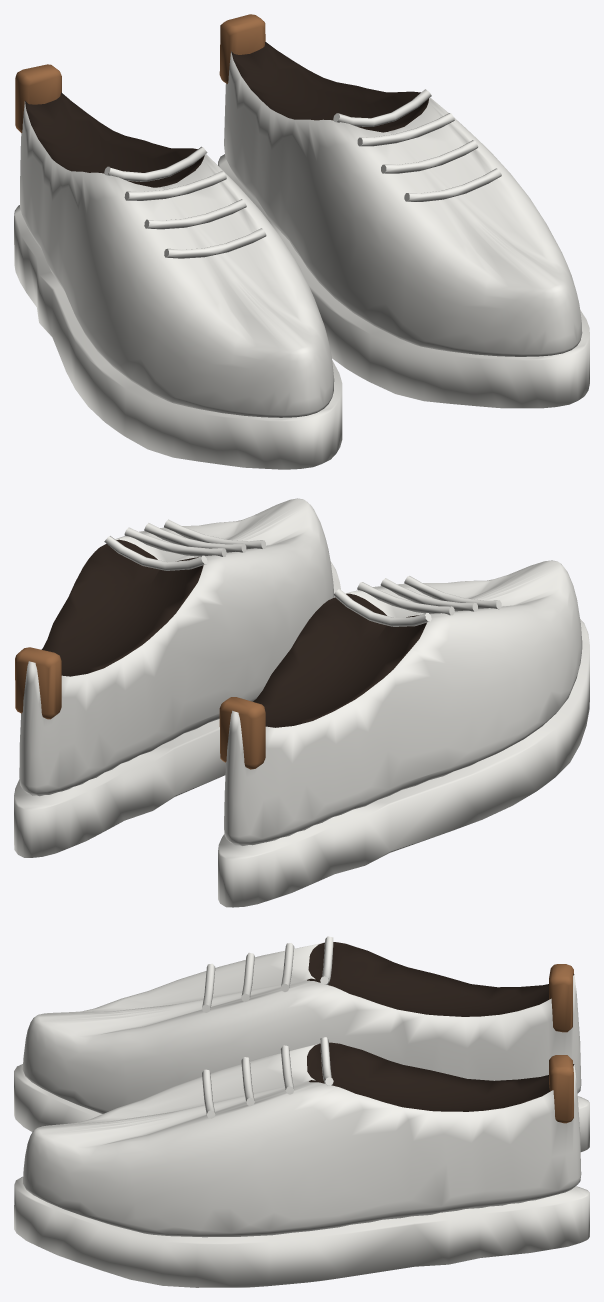
Rendered from shoes-balanced-14fb247dc1.glb.
3 views of the same model, one above another, from view 1: azimuth 30°, elevation 25°; view 2: azimuth 150°, elevation 25°; view 3: azimuth 270°, elevation 25° (orthographic). The views are drawn at different scales.
Parts seen in each view (by area): view 1: shoes; view 2: shoes; view 3: shoes.
Boxes of the visible parts, box(x1,y1,x2,y2) form: shoes: box(14, 14, 589, 469); shoes: box(14, 498, 589, 907); shoes: box(14, 936, 589, 1287).
Size of the model in its own units: 0.2192 by 0.0987 by 0.2772.
